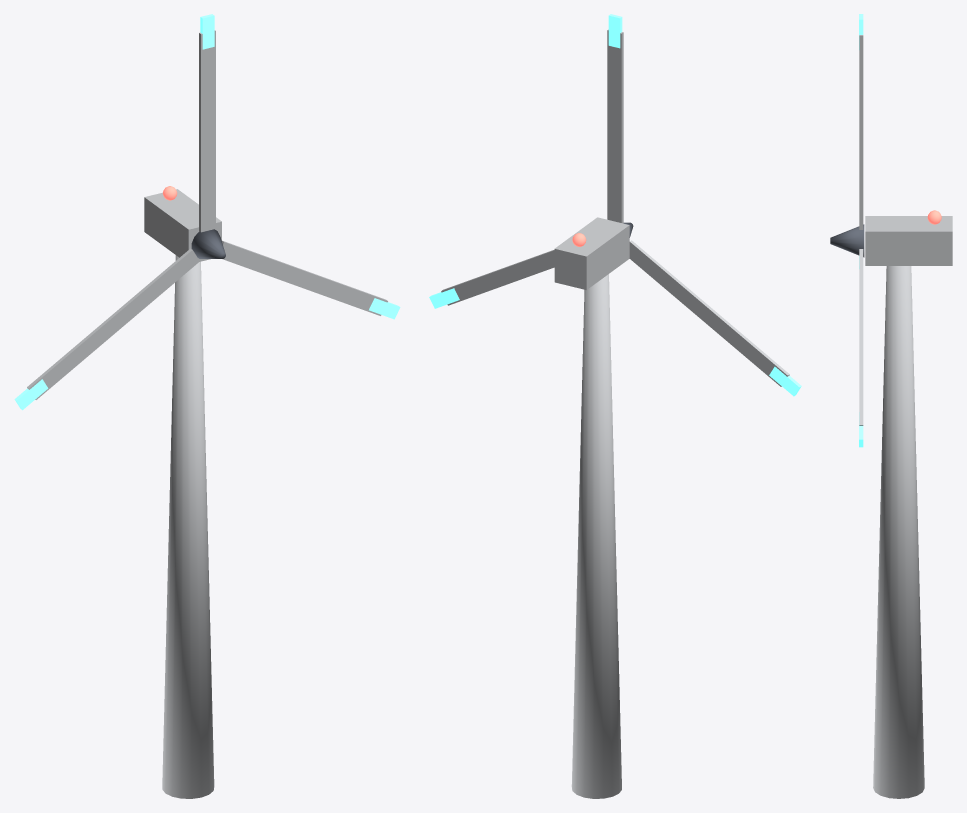
Rendered from wind_turbine.glb.
The picture shows the model from 3 angles, left to right: view 1: azimuth 30°, elevation 25°; view 2: azimuth 150°, elevation 25°; view 3: azimuth 270°, elevation 25°; orthographic projection. The views are drawn at different scales.
Visible parts, largest first — view 1: Mast, Blade_2, Blade_0, Blade_1, Nacelle, NoseCone; view 2: Mast, Nacelle, Blade_2, Blade_0, Blade_1; view 3: Mast, Nacelle, Blade_0, Blade_1, NoseCone.
Part boxes in pixels (x1,y1,x2,y2): Mast: (162, 255, 214, 798); Blade_2: (27, 248, 199, 399); Blade_0: (199, 30, 215, 232); Blade_1: (222, 240, 387, 315); Nacelle: (144, 189, 221, 261); NoseCone: (191, 229, 225, 258); Mast: (571, 274, 621, 798); Nacelle: (554, 217, 629, 289); Blade_2: (629, 240, 789, 386); Blade_0: (607, 29, 623, 223); Blade_1: (441, 249, 554, 305); Mast: (873, 266, 924, 798); Nacelle: (865, 216, 952, 265); Blade_0: (859, 35, 863, 229); Blade_1: (859, 249, 863, 425); NoseCone: (830, 224, 864, 257).
Bounding box in the file's own units: 10.95 × 21.43 × 3.07.
